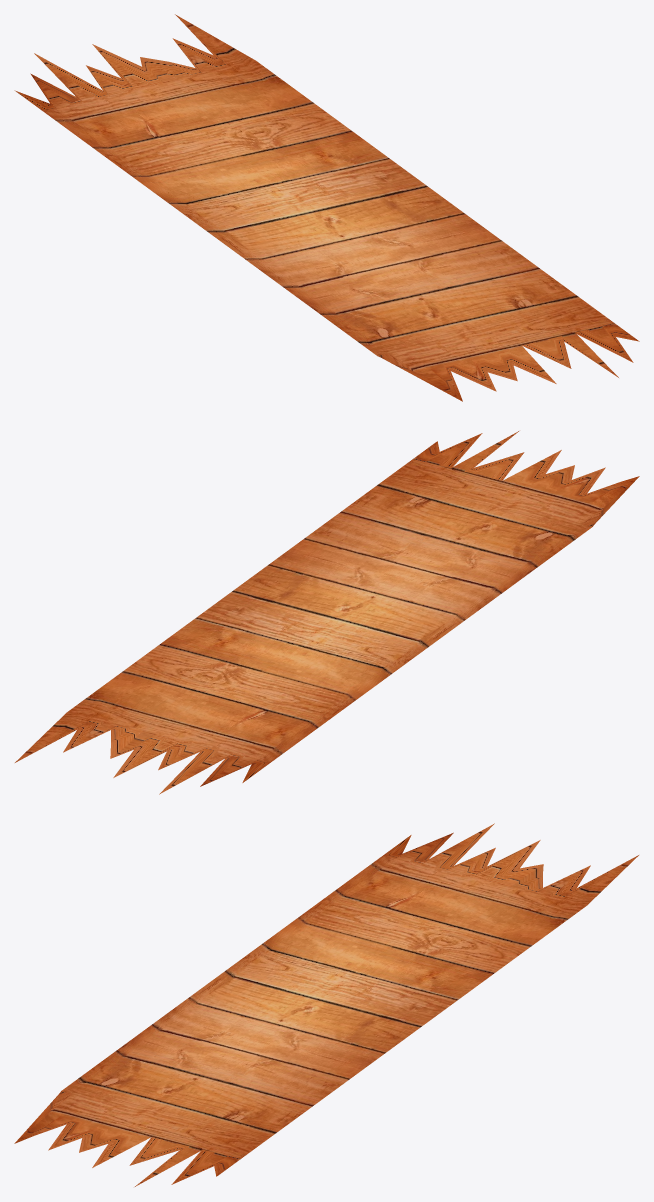
File: first plane.fbx
The picture shows the model from 3 angles, top to bottom: view 1: azimuth 30°, elevation 25°; view 2: azimuth 150°, elevation 25°; view 3: azimuth 330°, elevation 25°; orthographic projection. The views are drawn at different scales.
Parts seen in each view (by area): view 1: Plane; view 2: Plane; view 3: Plane.
Part boxes in pixels (x1,y1,x2,y2): Plane: (14,14,639,401); Plane: (15,431,639,794); Plane: (14,823,638,1186).
Bounding box in the file's own units: 18.07 × 0.2225 × 71.7.
